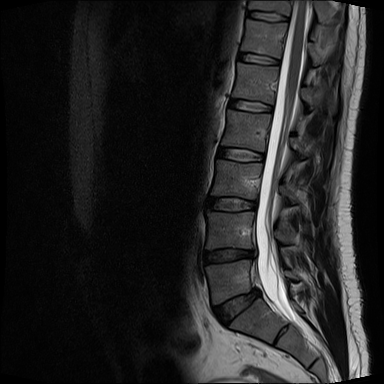Lumbar Disc Bulge LDB: (206, 276, 265, 332), (199, 239, 261, 270)
Normal IVD: (203, 189, 260, 218), (214, 140, 267, 167), (225, 92, 276, 117), (231, 46, 284, 70), (241, 6, 292, 25)
Spinal Stenosis SS: (240, 237, 272, 278)
